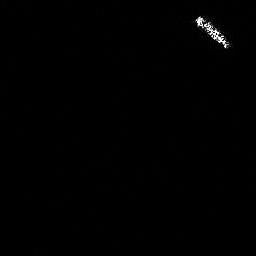ship: (194, 15, 232, 51)
